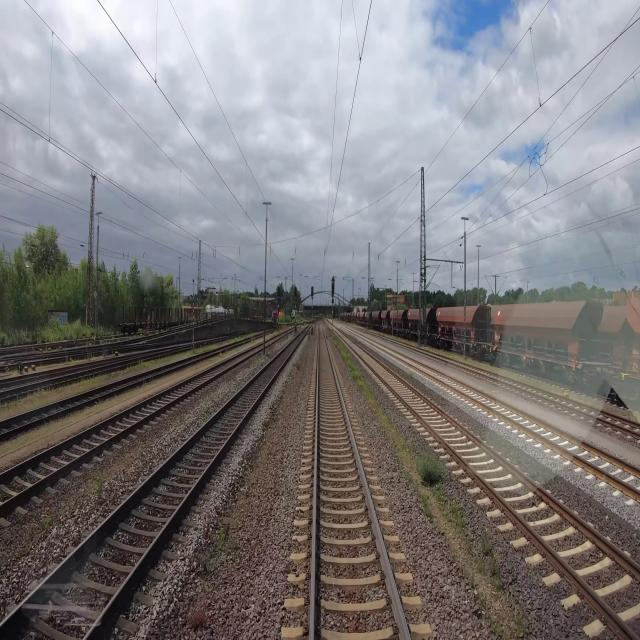Plant: (334, 337, 451, 521), (189, 606, 207, 628), (491, 556, 501, 590), (201, 554, 216, 575), (491, 617, 503, 639), (483, 526, 492, 555), (40, 513, 54, 531), (452, 503, 462, 528), (218, 523, 226, 549), (514, 615, 524, 634), (476, 558, 486, 572), (96, 478, 104, 495), (465, 534, 472, 551), (228, 538, 237, 550), (409, 370, 414, 378)
